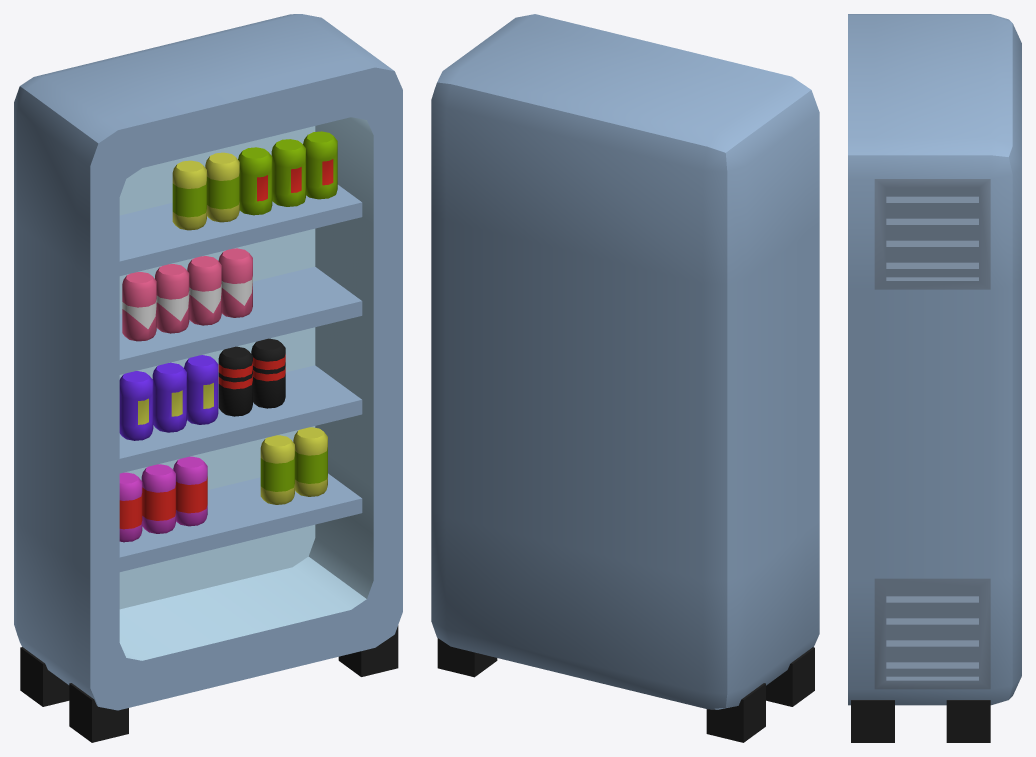
The model's file is Environment_CanFridge.glb.
3 views of the same model, side by side, from view 1: azimuth 30°, elevation 25°; view 2: azimuth 150°, elevation 25°; view 3: azimuth 270°, elevation 25° (orthographic). The views are drawn at different scales.
Parts seen in each view (by area): view 1: Environment_CanFridge; view 2: Environment_CanFridge; view 3: Environment_CanFridge.
Boxes of the visible parts, x1,y1,x2,y2 form: Environment_CanFridge: (14, 14, 402, 742); Environment_CanFridge: (431, 14, 819, 742); Environment_CanFridge: (848, 14, 1021, 742).
Bounding box in the file's own units: 2.36 × 4.39 × 1.16.
1 material, 1 textured.
